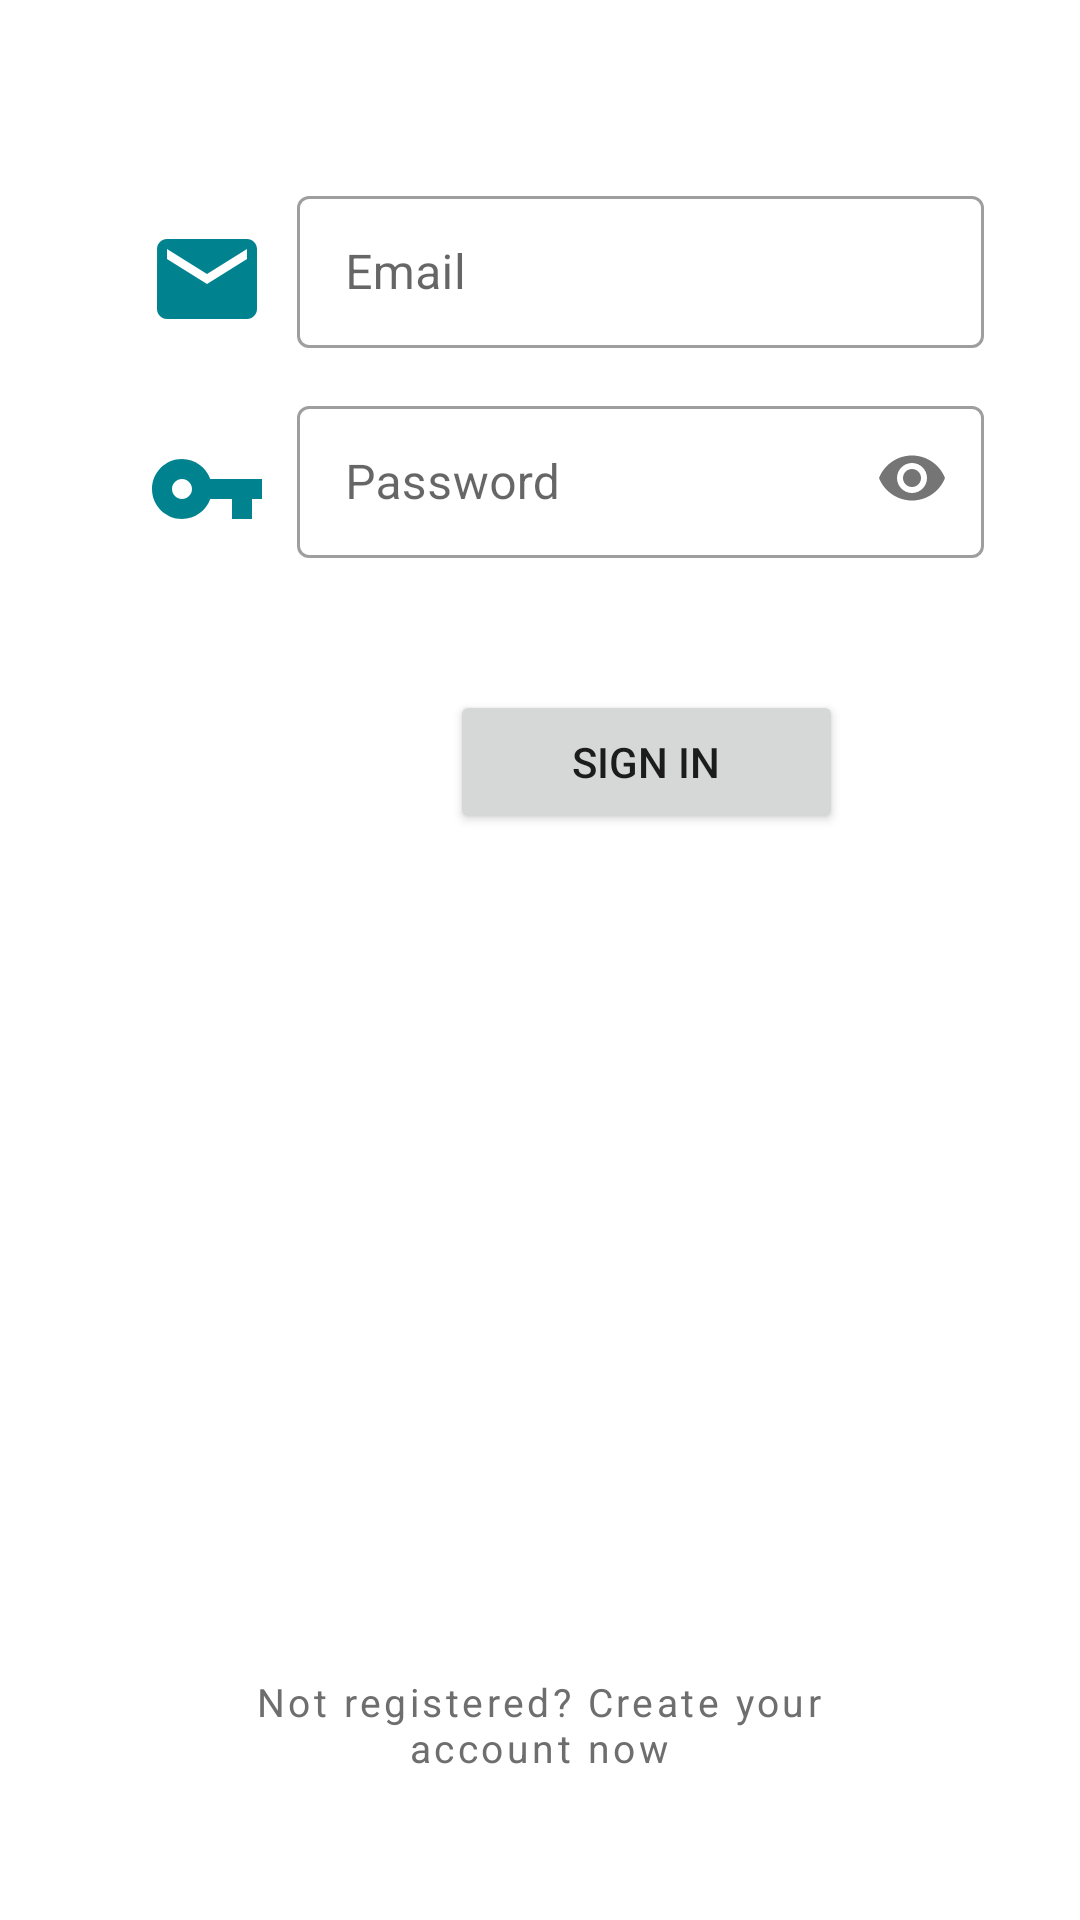

Icons on this 1080×1920 Android screen, each with the point to tap as (x=x, y=y):
vpn key: (x=207, y=489)
